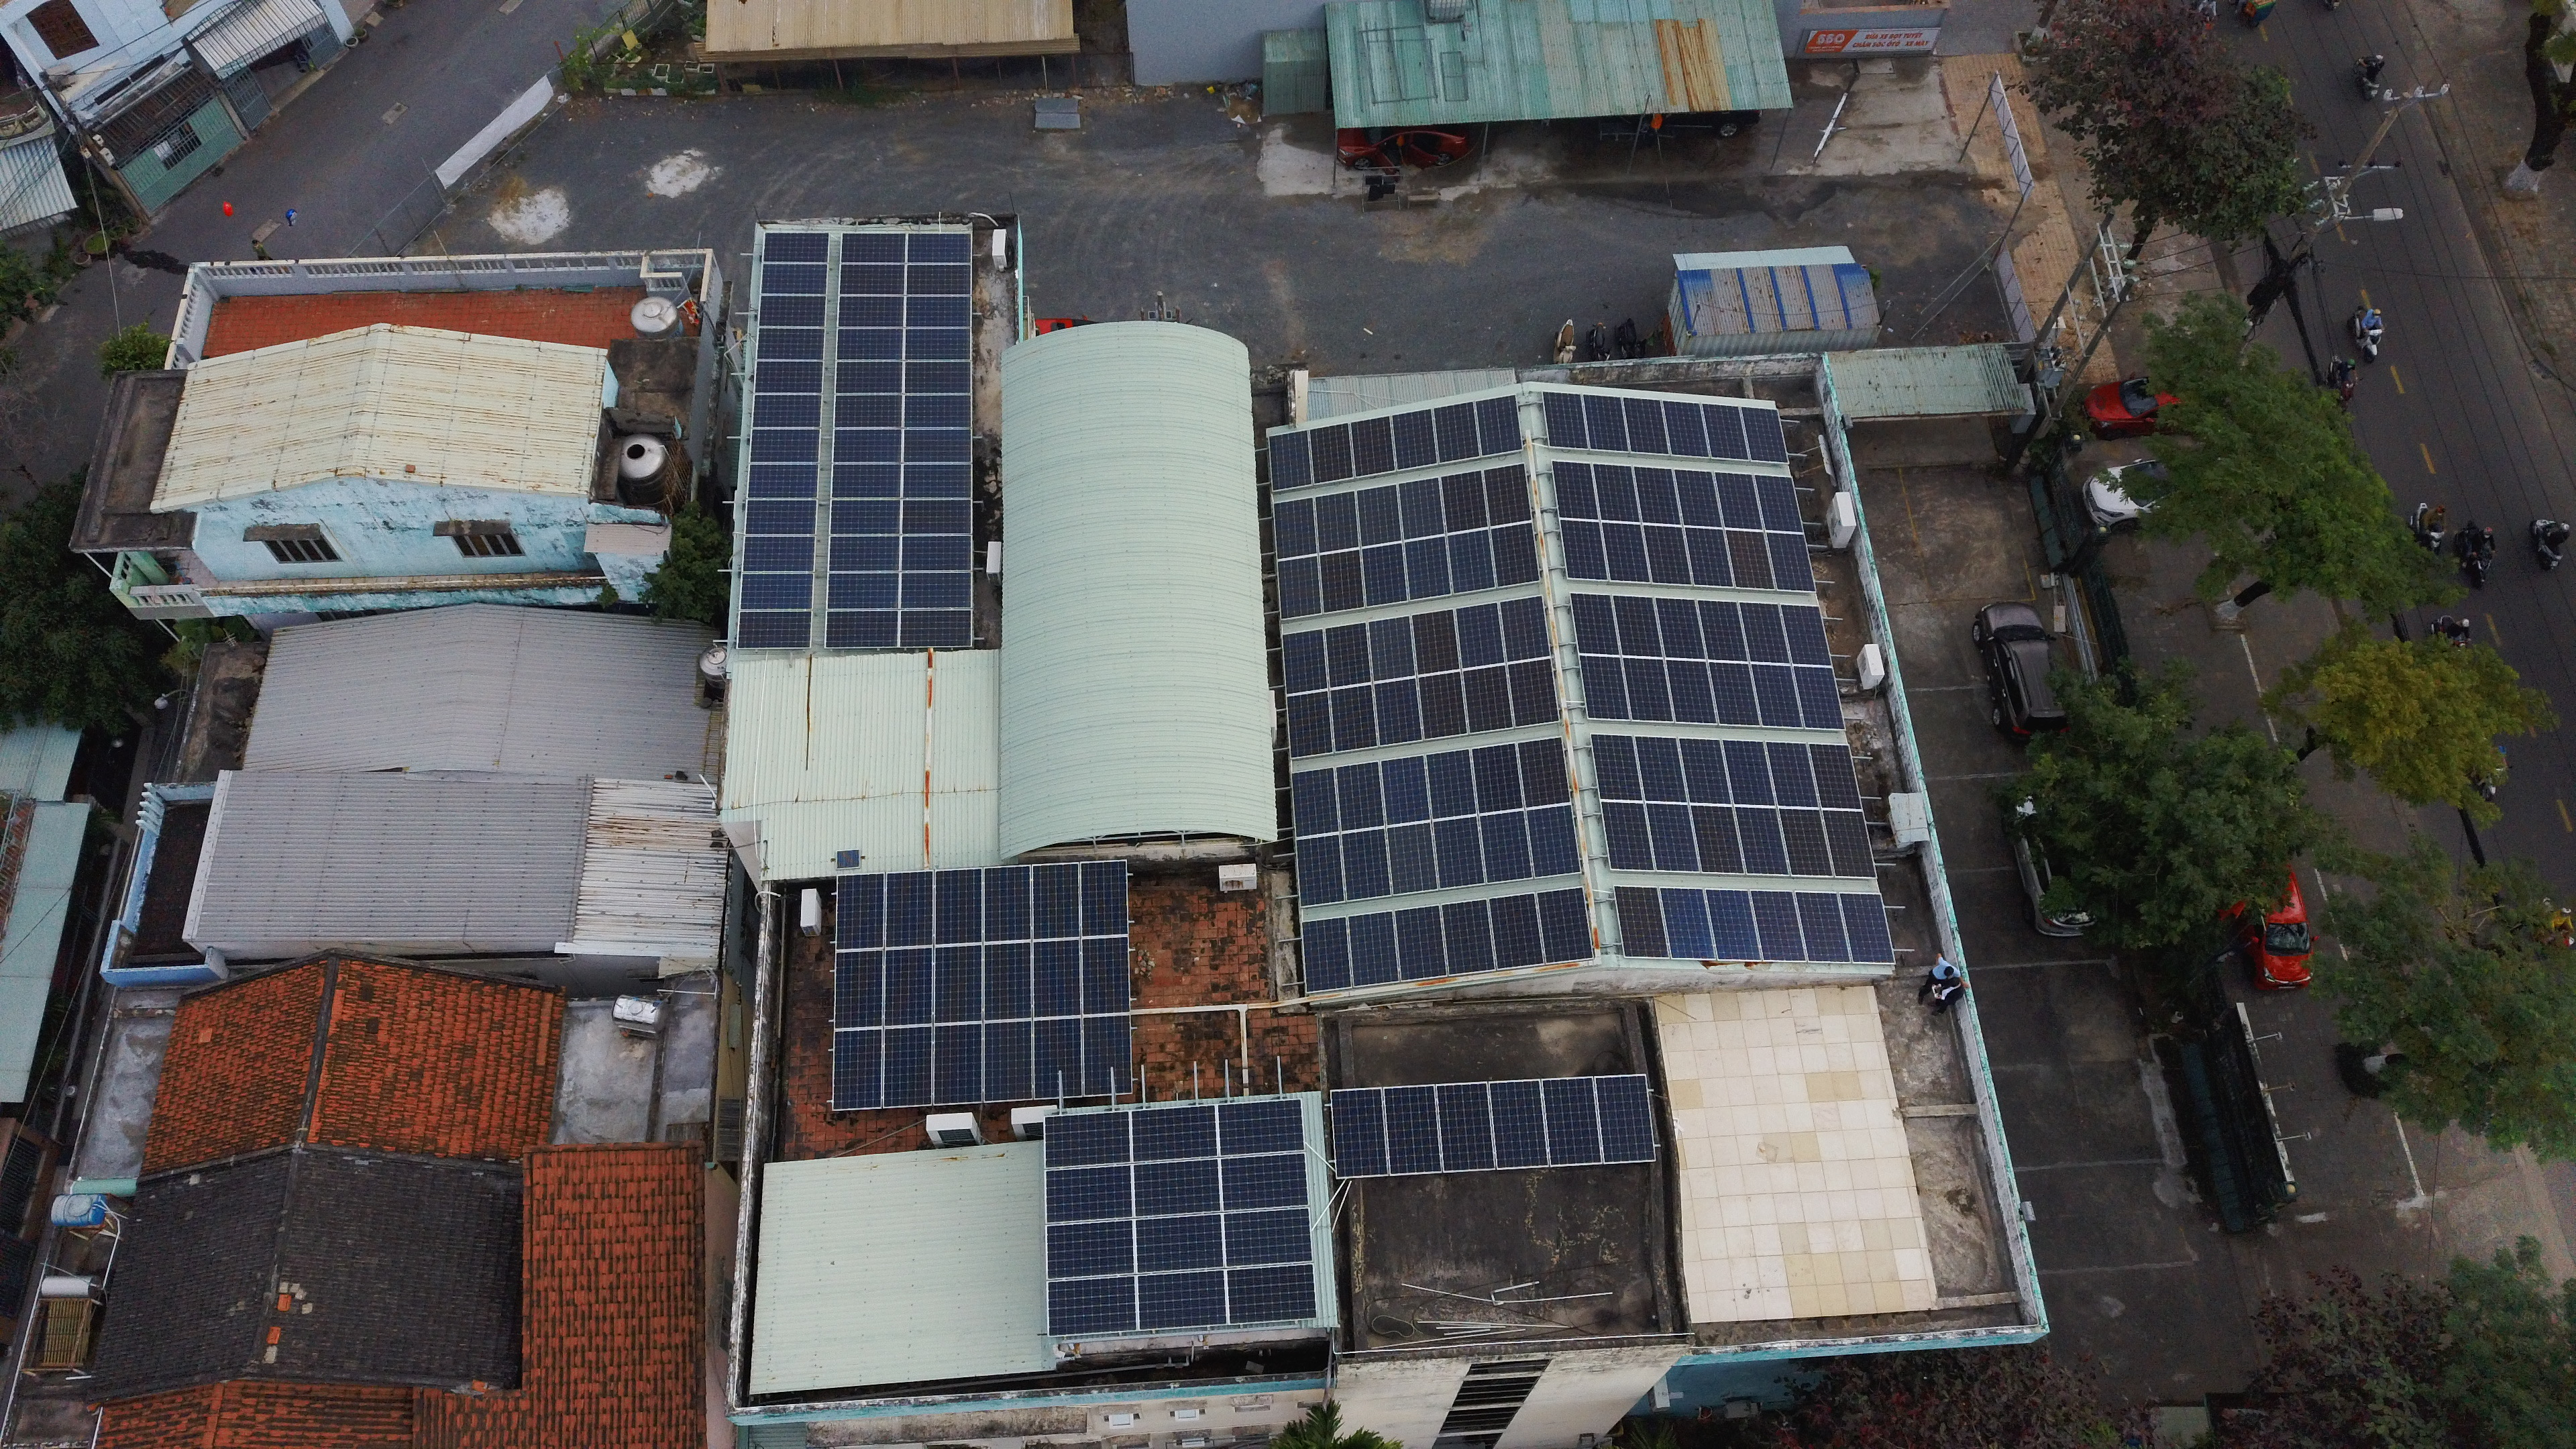Solar: (1125, 1100, 1226, 1169), (1129, 1210, 1230, 1279), (1132, 1265, 1233, 1334), (1217, 1203, 1318, 1272), (1127, 1152, 1226, 1221), (1040, 1214, 1141, 1281), (1039, 1161, 1139, 1228), (1223, 1260, 1323, 1327), (1214, 1150, 1315, 1217), (1210, 1097, 1311, 1164), (1323, 1086, 1394, 1182), (1044, 1272, 1141, 1341), (1039, 1108, 1138, 1175), (1433, 1079, 1502, 1175), (1375, 1083, 1444, 1178), (1594, 1072, 1663, 1166), (1537, 1076, 1606, 1169), (1484, 1077, 1553, 1171), (828, 1024, 886, 1115), (879, 1023, 938, 1113), (927, 1019, 985, 1109), (977, 1019, 1035, 1109), (1077, 1010, 1136, 1100), (1028, 1014, 1085, 1104), (1074, 932, 1132, 1019), (879, 947, 938, 1033), (830, 947, 888, 1033), (1790, 890, 1854, 968), (1746, 886, 1810, 964), (1806, 736, 1870, 814), (1762, 736, 1826, 814), (1587, 729, 1651, 807), (1660, 649, 1723, 727), (1704, 655, 1767, 732), (832, 870, 888, 957), (879, 869, 936, 955), (929, 865, 985, 952), (978, 865, 1035, 952), (1026, 863, 1083, 950), (1074, 860, 1131, 947), (977, 939, 1033, 1026), (931, 941, 987, 1028), (1608, 883, 1672, 959), (1730, 801, 1794, 878), (1654, 883, 1716, 961), (1688, 796, 1750, 874), (1776, 800, 1838, 878), (1672, 734, 1734, 812), (1631, 732, 1693, 810), (1576, 649, 1638, 727), (1026, 936, 1083, 1021), (1438, 897, 1497, 978), (1536, 886, 1594, 968), (1838, 890, 1900, 966), (1700, 886, 1762, 962), (1596, 798, 1658, 874), (1642, 800, 1704, 876), (1819, 803, 1881, 879), (1720, 736, 1782, 812), (1617, 649, 1679, 725), (1746, 655, 1808, 731), (1790, 658, 1852, 734), (1389, 902, 1445, 985), (1488, 890, 1545, 971), (1707, 465, 1771, 536), (1523, 803, 1583, 878), (1476, 809, 1536, 883), (1426, 814, 1486, 888), (1380, 821, 1440, 895), (1290, 830, 1350, 904), (1297, 916, 1357, 991), (1345, 911, 1405, 985), (1736, 596, 1796, 669), (1652, 593, 1713, 665), (1677, 522, 1737, 594), (1640, 518, 1700, 591), (1596, 515, 1656, 587), (1338, 828, 1396, 902), (821, 566, 908, 616), (1504, 658, 1562, 731), (1412, 669, 1470, 741), (1366, 676, 1424, 748), (1279, 685, 1338, 757), (1329, 763, 1387, 835), (1373, 755, 1431, 828), (1421, 748, 1479, 821), (1514, 738, 1573, 810), (1776, 600, 1835, 672), (1695, 596, 1753, 669), (1610, 591, 1668, 663), (1568, 589, 1626, 662), (1760, 525, 1819, 598), (1720, 522, 1778, 594), (1557, 513, 1615, 586), (1548, 455, 1606, 527), (1629, 458, 1688, 531), (823, 529, 909, 577), (1458, 662, 1514, 734), (1325, 683, 1382, 755), (1286, 766, 1343, 839), (1468, 743, 1525, 816), (1589, 456, 1644, 529), (1752, 471, 1810, 538), (1698, 400, 1757, 467), (1658, 396, 1716, 464), (1617, 393, 1675, 460), (1576, 391, 1635, 458), (732, 609, 816, 655), (826, 494, 909, 540), (1737, 402, 1794, 469), (1541, 387, 1598, 455), (823, 605, 902, 653), (835, 257, 913, 304), (828, 456, 908, 502), (830, 423, 909, 469), (830, 386, 909, 432), (832, 354, 911, 400), (740, 570, 817, 616), (833, 320, 911, 366), (833, 287, 911, 333), (1670, 467, 1723, 533), (1323, 623, 1375, 690), (899, 225, 977, 269), (899, 258, 977, 303), (899, 357, 977, 402), (897, 389, 975, 433), (897, 534, 975, 579), (741, 492, 816, 538), (899, 458, 975, 502), (895, 570, 971, 614), (897, 609, 973, 653), (1265, 426, 1315, 494), (1307, 419, 1357, 487), (1348, 412, 1398, 479), (1389, 405, 1438, 472), (1431, 400, 1481, 467), (1477, 391, 1527, 458), (1270, 495, 1320, 563), (1313, 490, 1362, 557), (1355, 483, 1405, 550), (1396, 476, 1445, 543), (1438, 471, 1488, 538), (1483, 462, 1532, 529), (1276, 554, 1325, 621), (1318, 548, 1368, 616), (1361, 541, 1410, 609), (1401, 536, 1451, 603), (1445, 527, 1495, 594), (1488, 522, 1537, 589), (1281, 628, 1330, 695), (1366, 616, 1415, 683), (1410, 609, 1460, 676), (1456, 602, 1506, 669), (1499, 596, 1548, 663), (741, 533, 816, 577), (837, 228, 913, 271), (899, 292, 975, 334), (899, 326, 975, 368), (899, 425, 975, 467), (897, 497, 973, 540), (748, 391, 819, 433), (748, 425, 819, 467), (752, 357, 824, 398), (761, 226, 832, 267), (757, 260, 828, 301), (755, 290, 826, 331), (754, 326, 824, 366), (747, 460, 817, 501)
